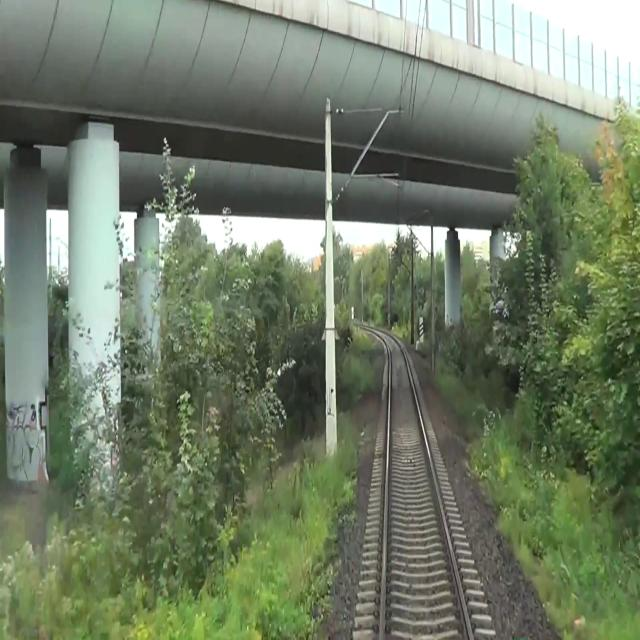rail-track: (384, 335, 468, 639)
